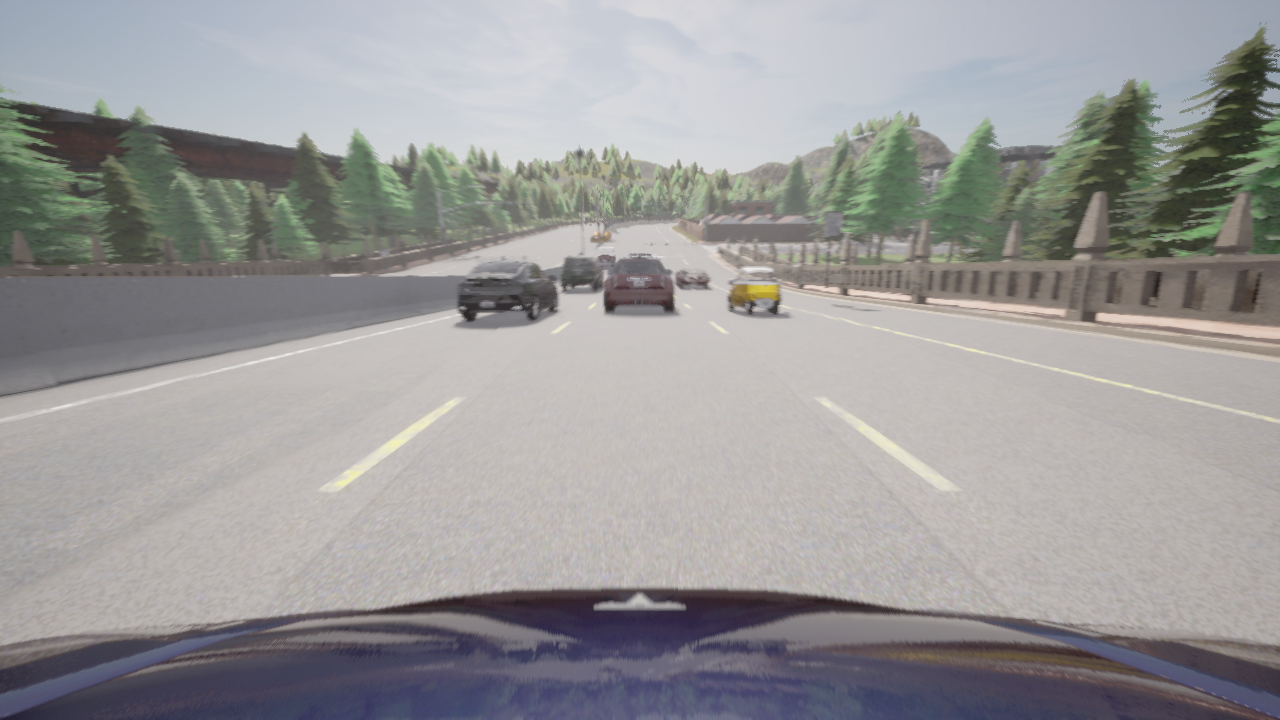cyclist: (0, 588, 1279, 719), (457, 261, 557, 320), (604, 254, 673, 312), (728, 267, 780, 315), (561, 257, 603, 291), (676, 268, 709, 288), (597, 246, 616, 267), (628, 255, 651, 257)
